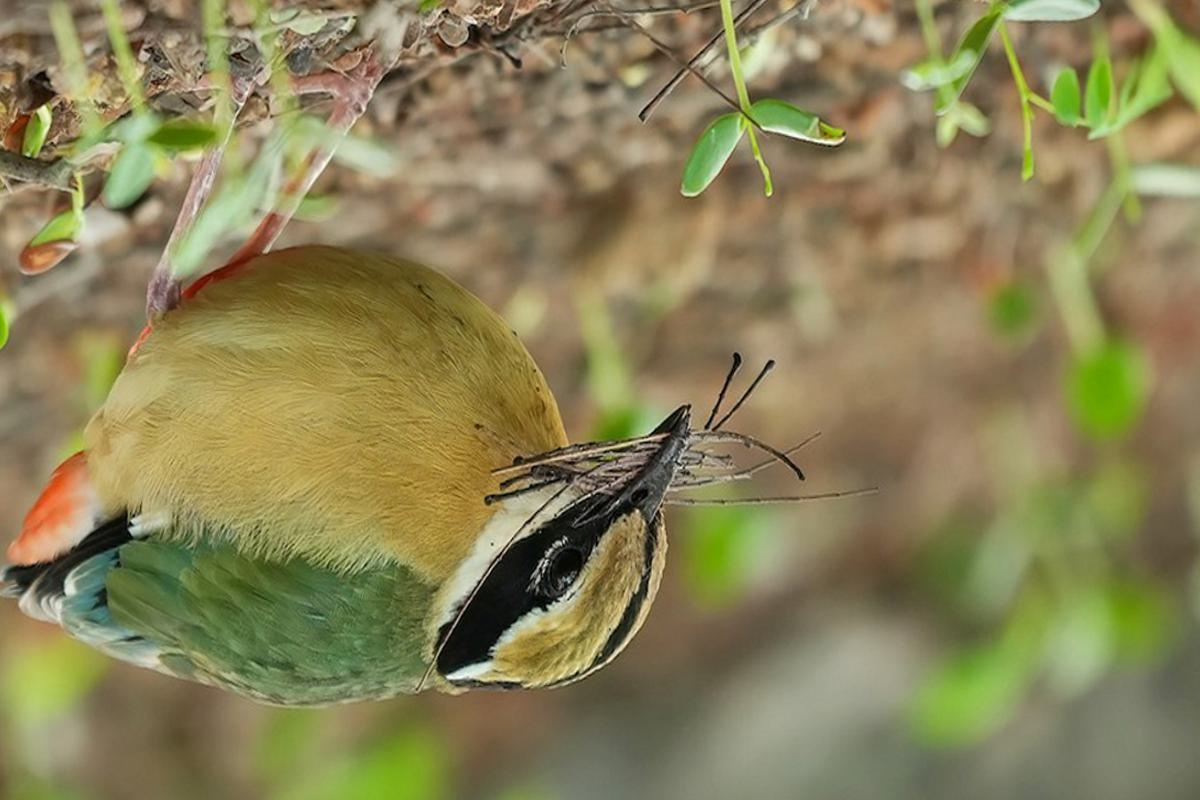pitta: (60, 143, 747, 726)
